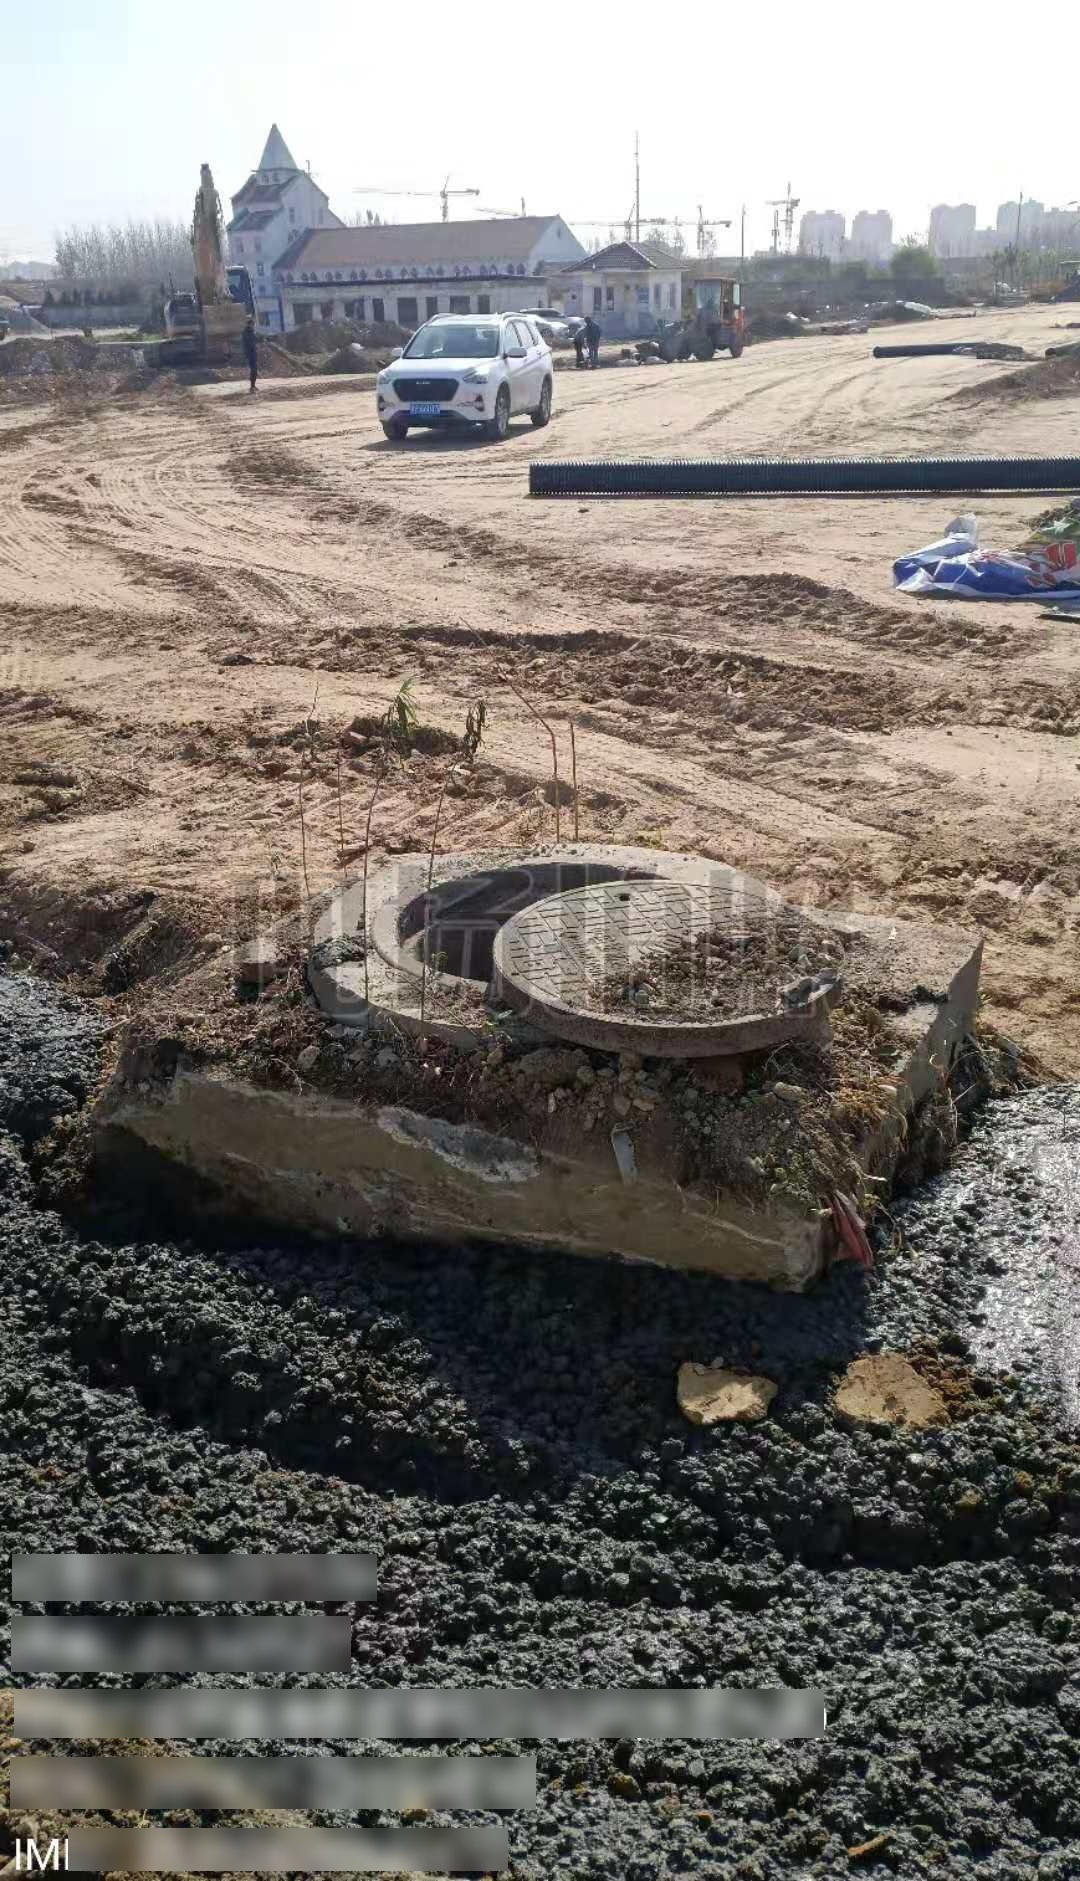uncovered: (306, 841, 844, 1061)
